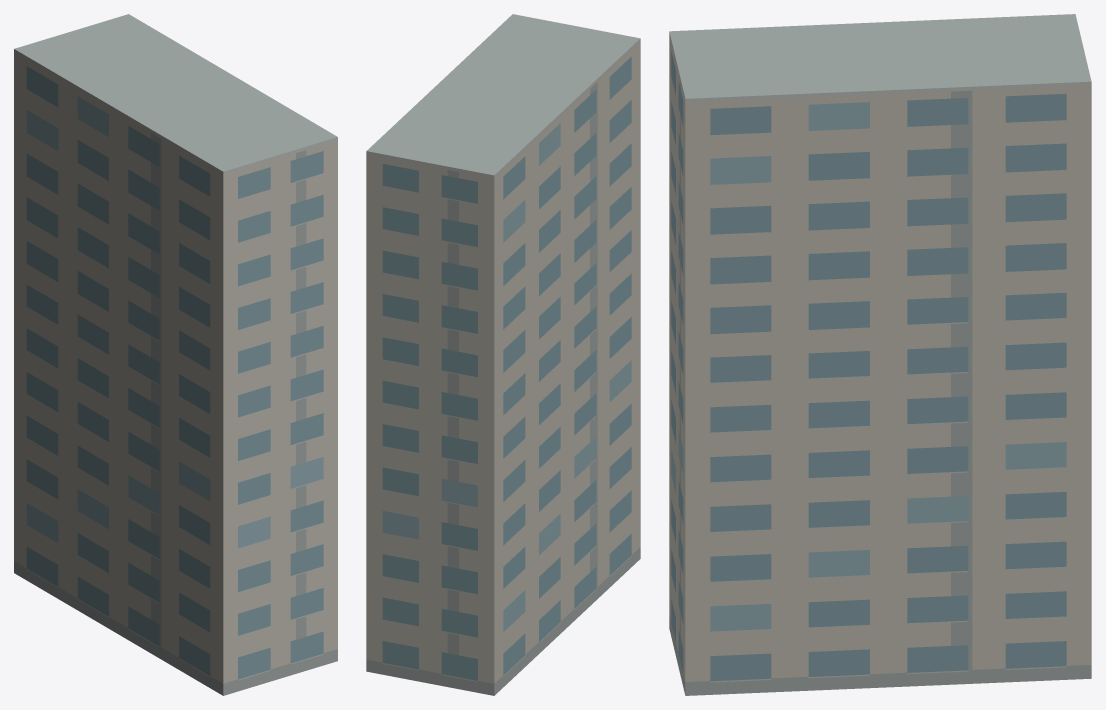
Rendered from residential-ec2bce74-8ef5-45d7-8528-d269cd65bfe0.glb.
3 renders of one model, left to right at view 1: azimuth 30°, elevation 25°; view 2: azimuth 150°, elevation 25°; view 3: azimuth 270°, elevation 25°, orthographic. The views are drawn at different scales.
Visible parts, largest first — view 1: residential-ec2bce74-8ef5-45d7-8528-d269cd65bfe0.tmp; view 2: residential-ec2bce74-8ef5-45d7-8528-d269cd65bfe0.tmp; view 3: residential-ec2bce74-8ef5-45d7-8528-d269cd65bfe0.tmp.
Part boxes in pixels (x1,y1,x2,y2): residential-ec2bce74-8ef5-45d7-8528-d269cd65bfe0.tmp: (14, 14, 337, 695); residential-ec2bce74-8ef5-45d7-8528-d269cd65bfe0.tmp: (366, 14, 640, 695); residential-ec2bce74-8ef5-45d7-8528-d269cd65bfe0.tmp: (669, 14, 1091, 695).
Bounding box in the file's own units: 11.29 × 37 × 23.72.
